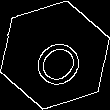O_NE: (21, 21, 89, 89)
